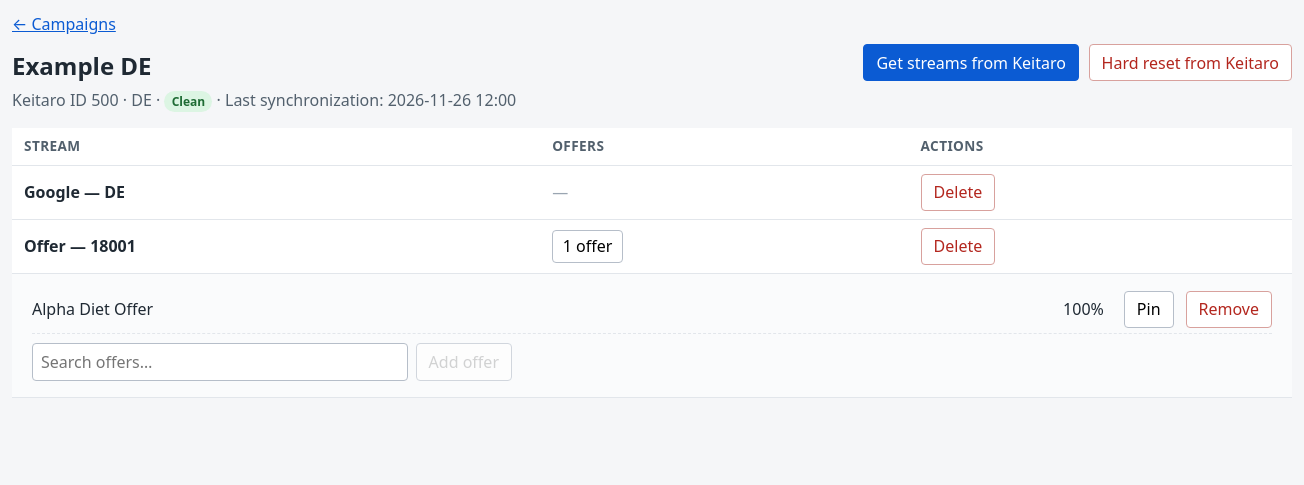
Test: CampaignEditorPage — fetch, discard, and conflicts › handles a dirty-draft fetch conflict with an explicit discard confirmation
Later steps or results of the test are not shown.
Click the button "Get streams from Keitaro".
click(971, 63)  # box [864,44,1079,81]
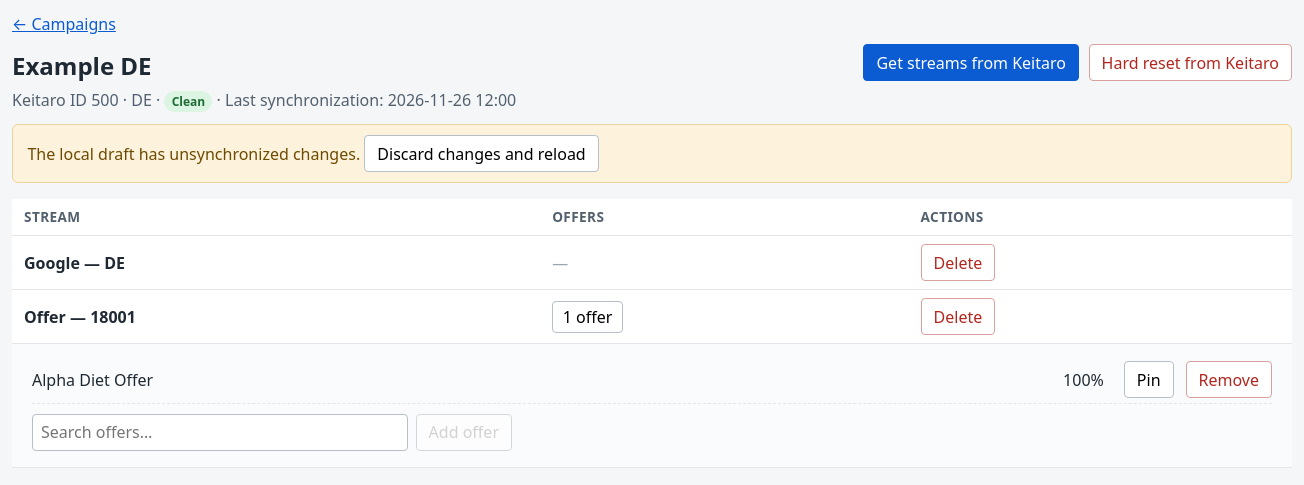
Expected: the text "The local draft has unsynchronized changes." is shown, [27,142,360,164]
